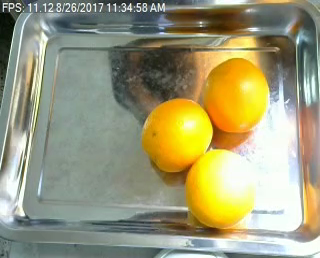Orange: (185, 148, 258, 228), (141, 98, 213, 171), (203, 58, 271, 134)
